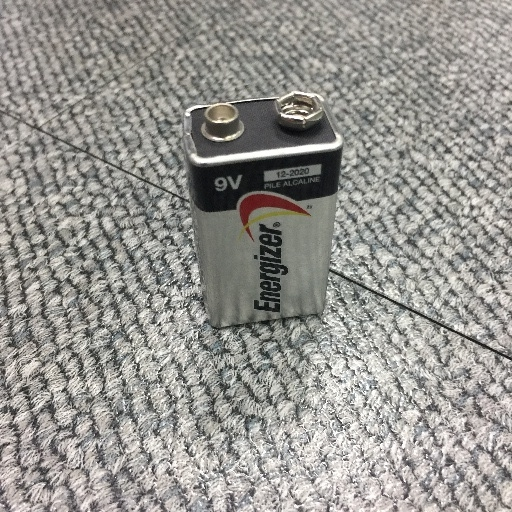Battery_3: (173, 70, 358, 349)
